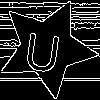U: (22, 22, 64, 74)
